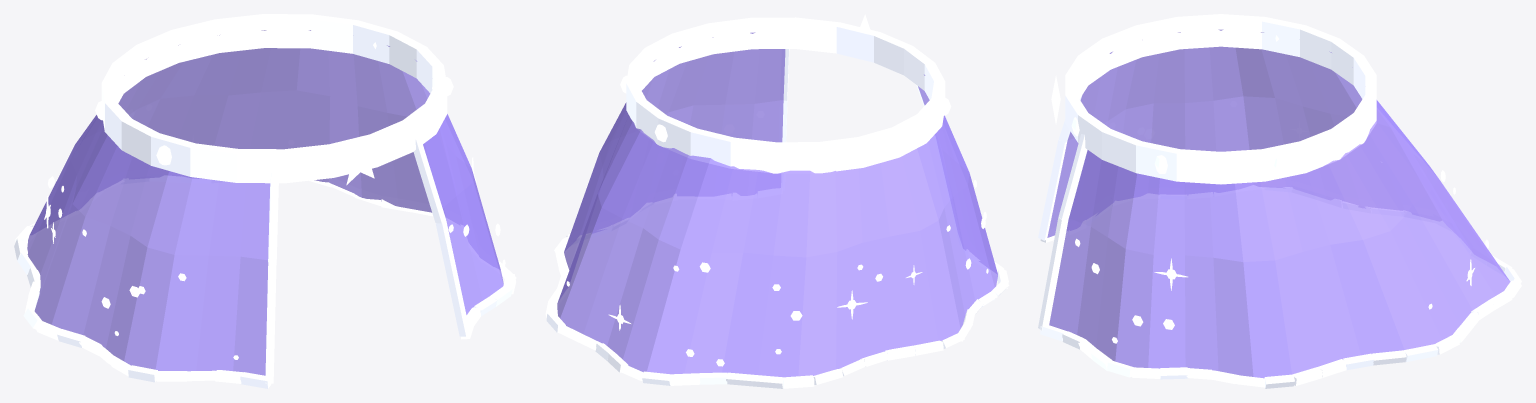
Rendered from lord_long_table_skirts.glb.
3 views of the same model, side by side, from view 1: azimuth 30°, elevation 25°; view 2: azimuth 150°, elevation 25°; view 3: azimuth 270°, elevation 25° (orthographic). The views are drawn at different scales.
Visible parts, largest first — view 1: lord_long_table_skirts; view 2: lord_long_table_skirts; view 3: lord_long_table_skirts.
Boxes of the visible parts, left/top/right/bottom form: lord_long_table_skirts: left=14, top=14, right=516, bottom=388; lord_long_table_skirts: left=545, top=14, right=1009, bottom=388; lord_long_table_skirts: left=1038, top=14, right=1521, bottom=388.
Bounding box in the file's own units: 1.26 × 0.616 × 1.26.
